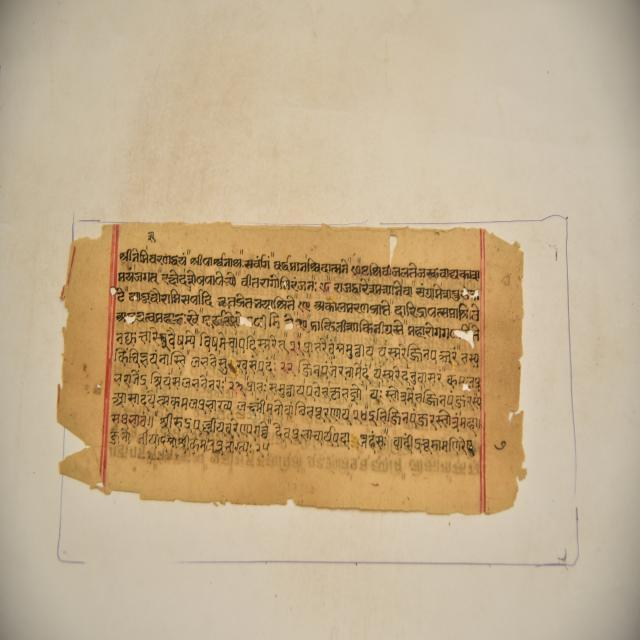text_paragraph: (73, 223, 521, 512)
